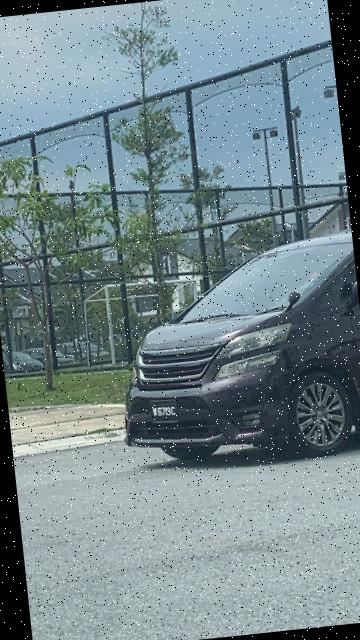License_Plate: (143, 399, 188, 427)
car: (97, 226, 360, 482)
